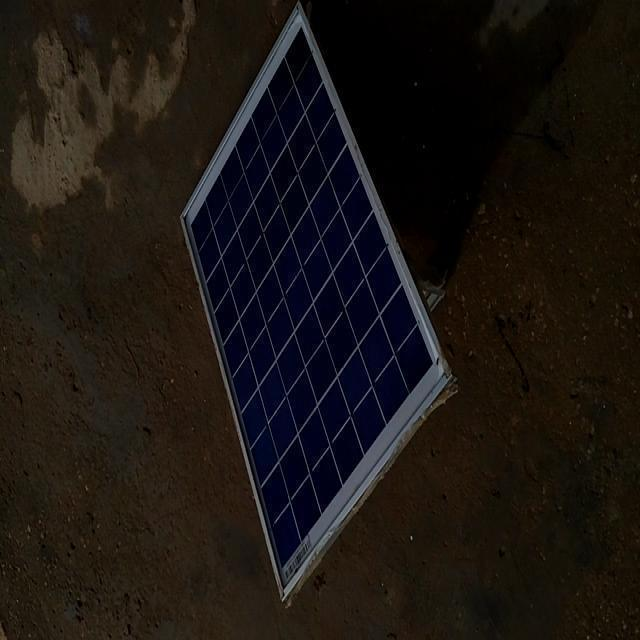Normal Solar Panel: (183, 4, 455, 600)
